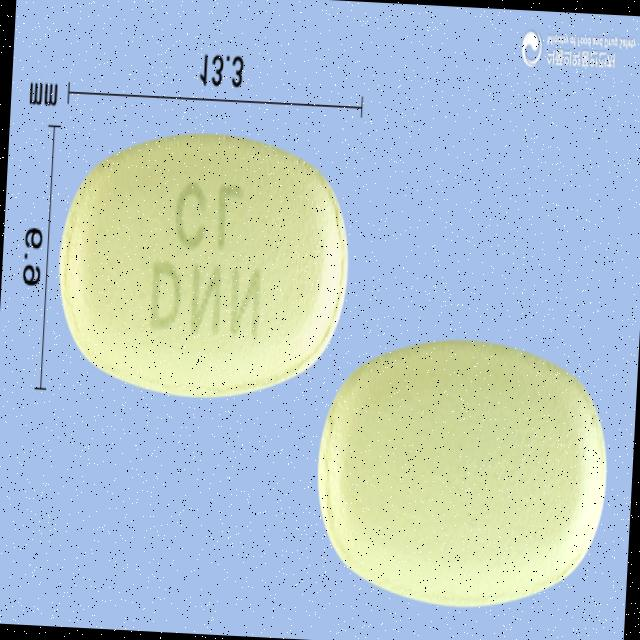Clcid: (50, 122, 357, 412)
